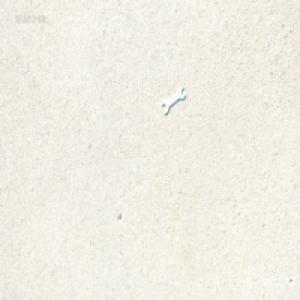Wrench: (163, 87, 186, 116)
